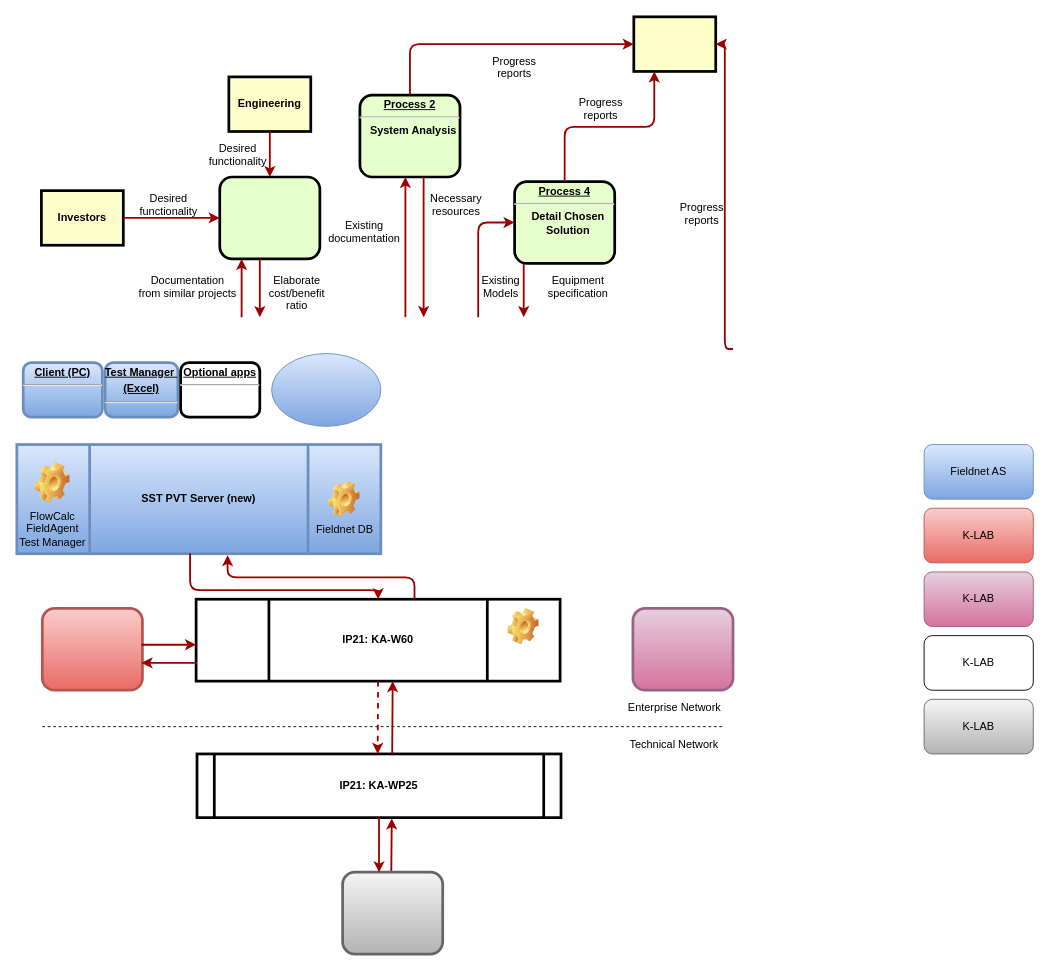
Image size: 1049x971. Some labels were removed from this diagram. The shapes that lost their labels are listed below. From the top down, each one's centre as x and y in pixels, then its label:
At [674,43]: "Management".
At [269,217]: "Process 1 System Study Preparation".
At [326,389]: "Web services REST API".
At [523,626]: "DB Historic Data".
At [91,649]: "IPlant".
At [682,649]: "Datalogger".
At [392,912]: "Control System".
